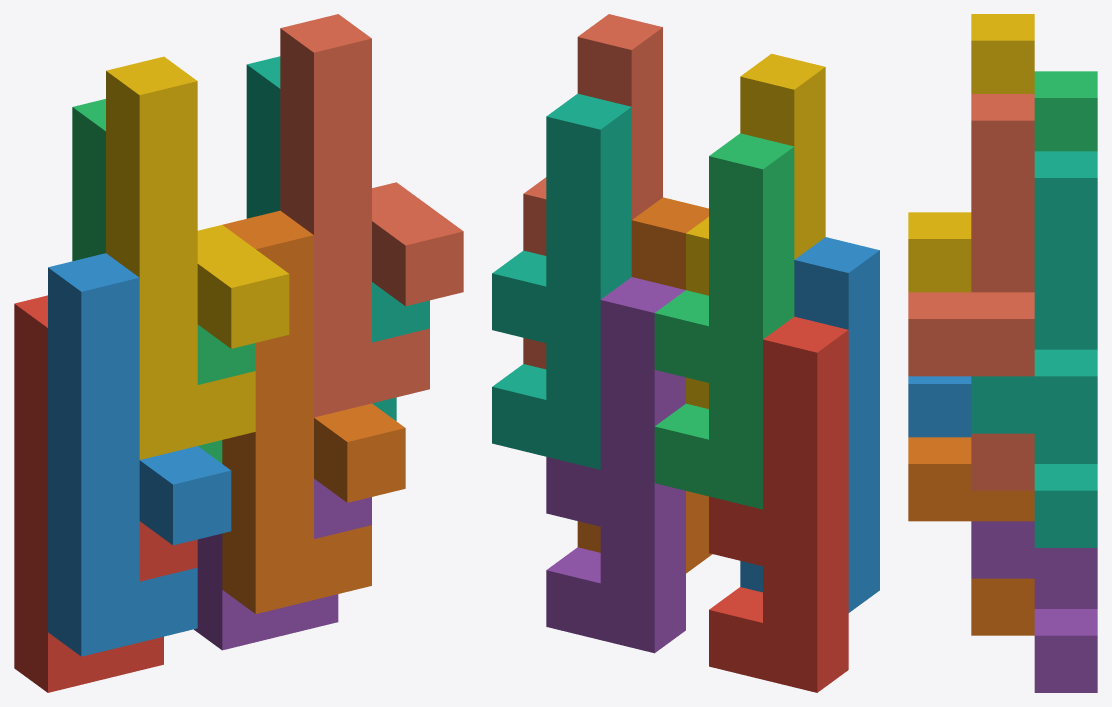
The model's file is tiling.obj.
The picture shows the model from 3 angles, left to right: view 1: azimuth 30°, elevation 25°; view 2: azimuth 150°, elevation 25°; view 3: azimuth 270°, elevation 25°; orthographic projection. The views are drawn at different scales.
Visible parts, largest first — view 1: copy_1_domain_2, copy_1_domain_4, copy_1_domain_8, copy_1_domain_6, copy_1_domain_1, copy_1_domain_5, copy_1_domain_7, copy_1_domain_3; view 2: copy_1_domain_1, copy_1_domain_7, copy_1_domain_3, copy_1_domain_5, copy_1_domain_2, copy_1_domain_8, copy_1_domain_4, copy_1_domain_6; view 3: copy_1_domain_7, copy_1_domain_8, copy_1_domain_5, copy_1_domain_6, copy_1_domain_4, copy_1_domain_3, copy_1_domain_2.
Boxes of the visible parts, bbox=[...] form: copy_1_domain_2: bbox=[48, 253, 231, 656]; copy_1_domain_4: bbox=[106, 56, 289, 459]; copy_1_domain_8: bbox=[280, 14, 463, 417]; copy_1_domain_6: bbox=[222, 210, 405, 613]; copy_1_domain_1: bbox=[14, 295, 197, 692]; copy_1_domain_5: bbox=[194, 479, 371, 650]; copy_1_domain_7: bbox=[246, 56, 429, 420]; copy_1_domain_3: bbox=[72, 99, 255, 463]; copy_1_domain_1: bbox=[709, 316, 848, 692]; copy_1_domain_7: bbox=[492, 93, 631, 469]; copy_1_domain_3: bbox=[654, 133, 794, 509]; copy_1_domain_5: bbox=[546, 277, 685, 653]; copy_1_domain_2: bbox=[740, 237, 879, 612]; copy_1_domain_8: bbox=[523, 14, 662, 369]; copy_1_domain_4: bbox=[686, 53, 825, 408]; copy_1_domain_6: bbox=[577, 197, 712, 573]; copy_1_domain_7: bbox=[971, 151, 1097, 547]; copy_1_domain_8: bbox=[908, 94, 1034, 490]; copy_1_domain_5: bbox=[971, 521, 1097, 692]; copy_1_domain_6: bbox=[908, 437, 1034, 635]; copy_1_domain_4: bbox=[908, 14, 1034, 292]; copy_1_domain_3: bbox=[1034, 71, 1097, 151]; copy_1_domain_2: bbox=[908, 376, 971, 437].
Bounding box in the file's own units: 6 × 10 × 3.
